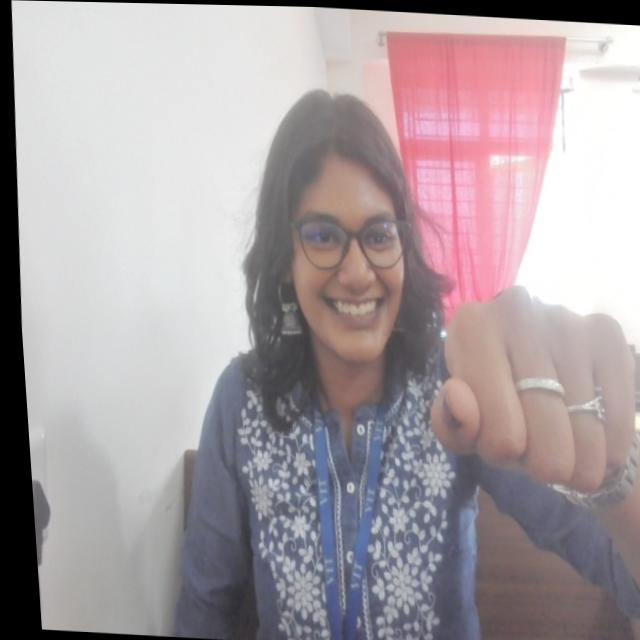yes: (411, 271, 640, 493)
